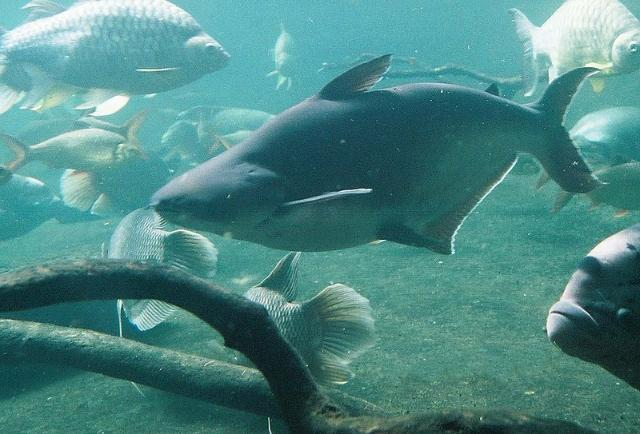Mulut: (143, 180, 213, 222)
Sirip Anal: (429, 147, 523, 271)
Sirip Dada: (284, 180, 384, 222), (133, 59, 195, 85), (583, 54, 617, 94), (265, 60, 277, 80)
Sirip Ekor: (530, 55, 620, 213), (303, 279, 385, 391), (140, 224, 226, 286), (0, 124, 38, 190)
Sirip Perut: (376, 215, 442, 269)
Sirip Punggung: (308, 46, 406, 108)
